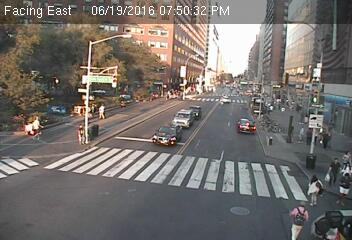neg: (177, 183, 207, 223), (37, 54, 66, 92), (203, 90, 230, 126), (93, 185, 119, 219), (45, 166, 69, 198), (235, 22, 259, 54), (94, 64, 118, 95), (45, 113, 68, 144), (304, 107, 327, 137), (309, 56, 332, 86), (237, 121, 259, 151), (200, 47, 222, 77), (157, 123, 179, 152), (126, 153, 148, 182), (222, 187, 244, 215), (264, 167, 285, 195), (268, 85, 288, 112), (155, 52, 175, 78), (76, 99, 96, 125), (264, 127, 282, 151), (202, 142, 219, 164), (128, 106, 143, 127), (273, 51, 287, 70), (304, 146, 318, 165), (178, 93, 190, 109)
pos: (285, 199, 313, 235), (324, 153, 348, 185), (306, 172, 329, 203), (28, 115, 45, 139), (95, 100, 112, 122)
